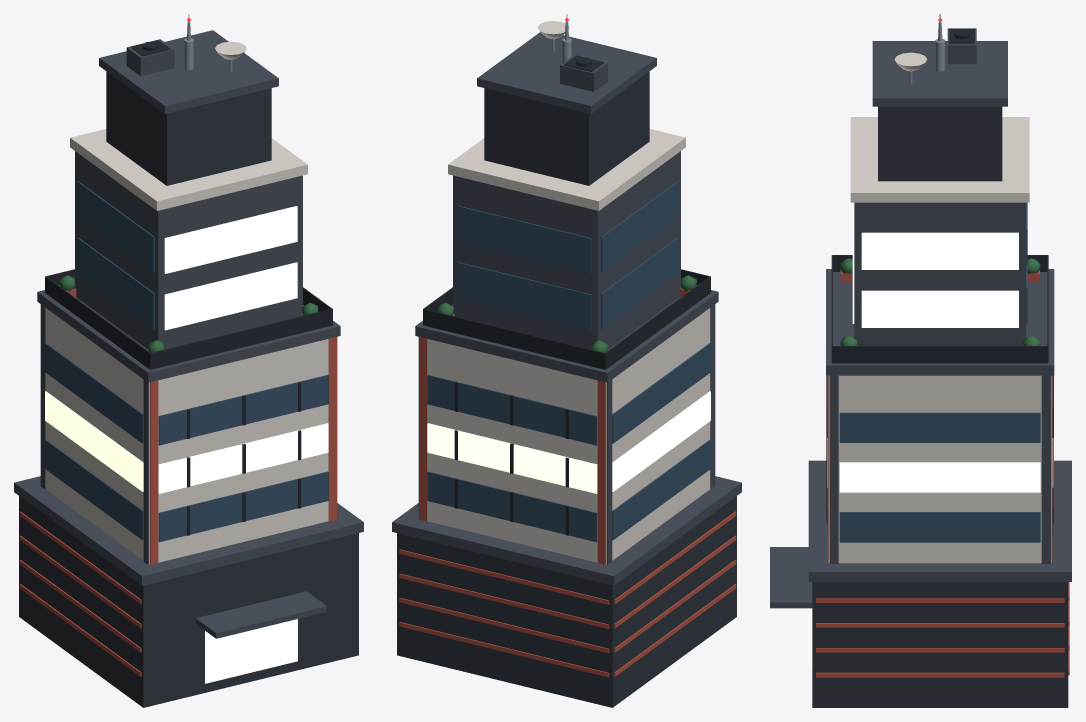
Rendered from mega_skyscraper_b.glb.
3 renders of one model, left to right at view 1: azimuth 30°, elevation 25°; view 2: azimuth 150°, elevation 25°; view 3: azimuth 270°, elevation 25°, orthographic. The views are drawn at different scales.
Visible parts, largest first — view 1: mega_skyscraper_b; view 2: mega_skyscraper_b; view 3: mega_skyscraper_b.
Boxes of the visible parts, bbox=[...] form: mega_skyscraper_b: bbox=[14, 14, 363, 707]; mega_skyscraper_b: bbox=[392, 14, 741, 707]; mega_skyscraper_b: bbox=[770, 14, 1071, 707].
Bounding box in the file's own units: 14.4 × 38.6 × 16.5.
